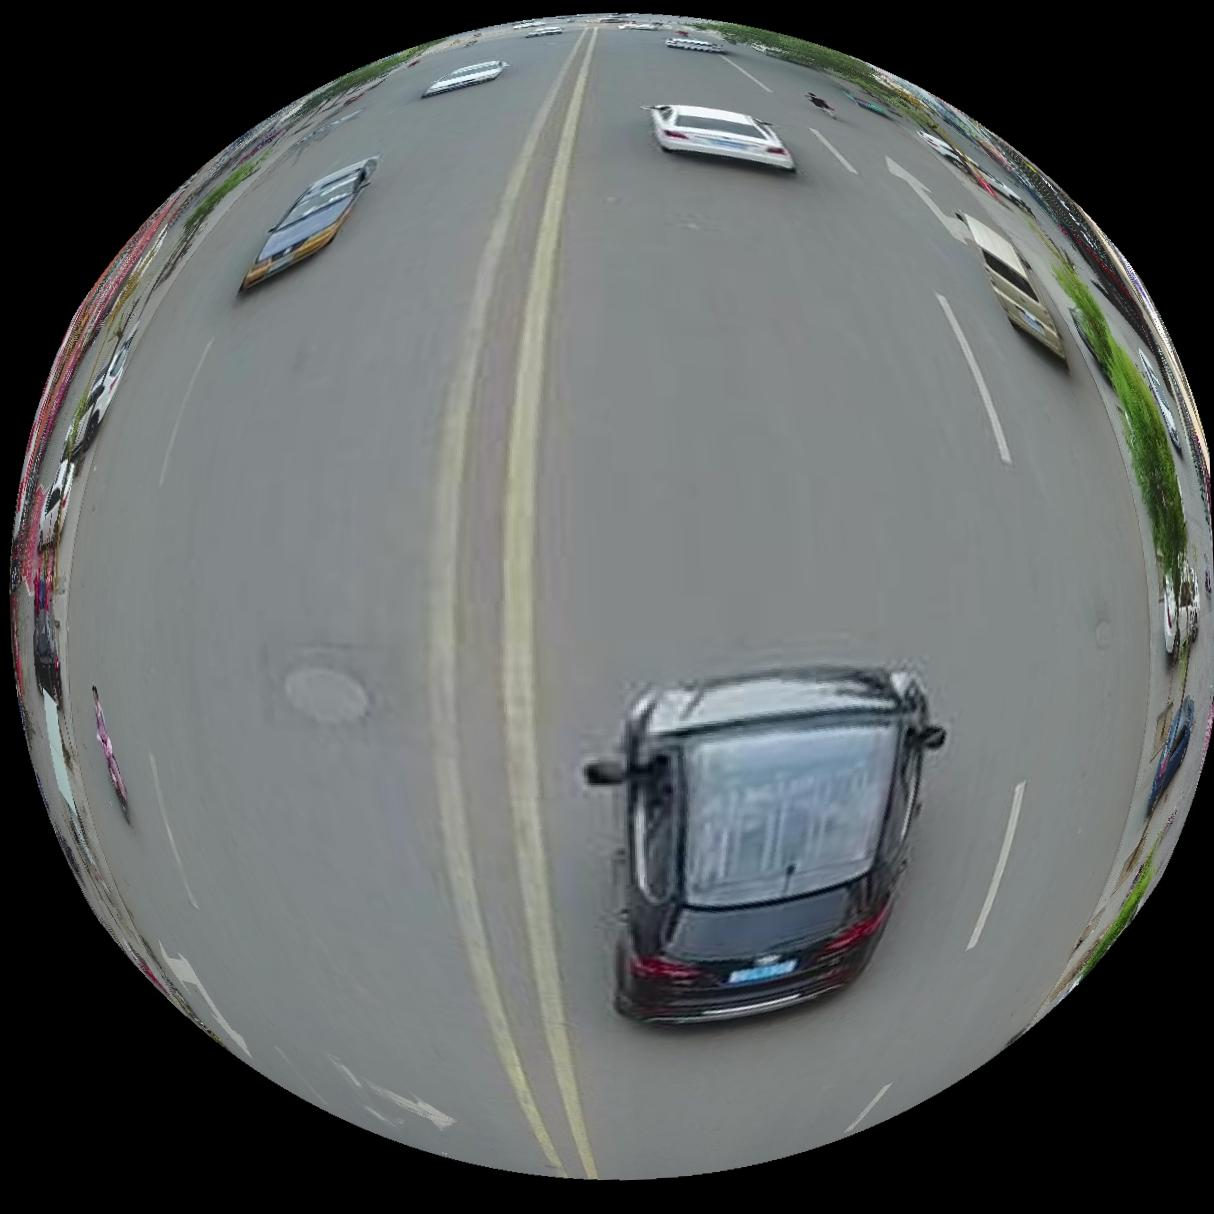cars: (586, 668, 947, 1024), (240, 156, 377, 289), (961, 212, 1067, 357), (648, 102, 795, 168), (1150, 697, 1197, 813), (1164, 555, 1203, 658), (421, 58, 507, 96)
trees: (1054, 259, 1190, 588), (1049, 828, 1170, 1008)
